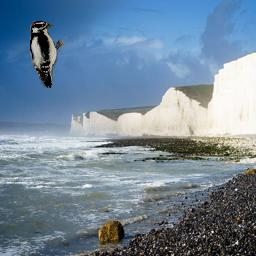Woodpecker: (30, 21, 64, 88)
